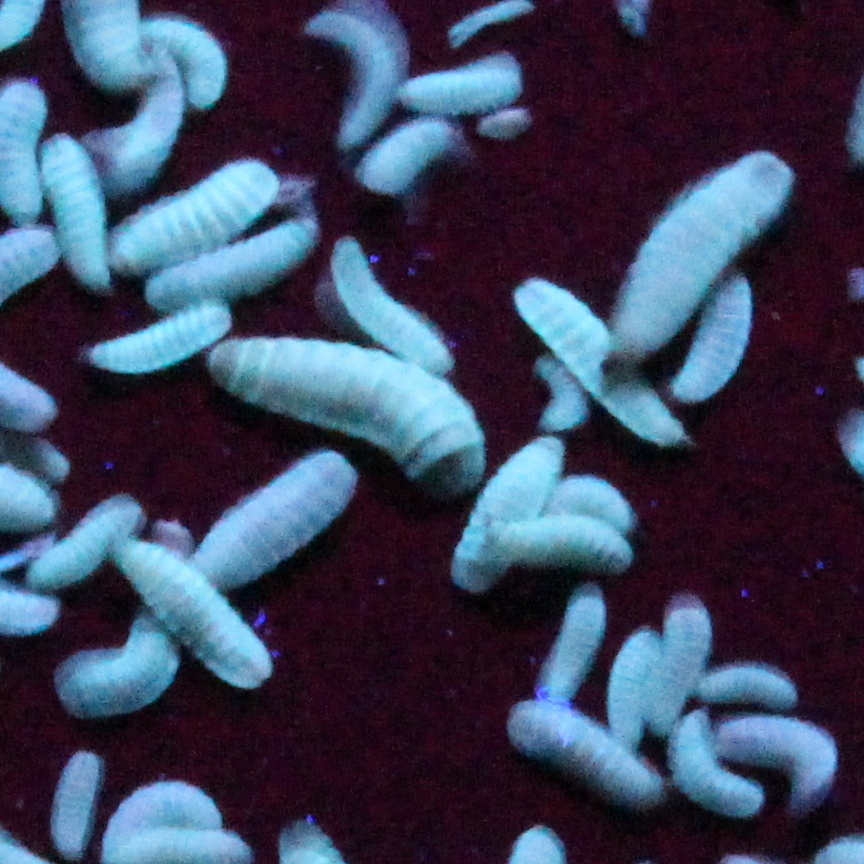larve: (222, 349, 479, 495), (605, 158, 779, 366), (514, 289, 685, 441), (194, 461, 377, 581), (137, 546, 279, 675), (434, 444, 551, 581), (148, 224, 328, 309), (519, 715, 659, 818), (108, 175, 265, 266), (337, 255, 459, 364), (679, 275, 757, 404), (71, 618, 177, 712), (102, 61, 180, 181), (362, 124, 454, 201), (405, 55, 528, 112), (539, 592, 599, 706), (94, 315, 225, 364), (48, 755, 105, 852), (160, 26, 234, 98), (451, 4, 537, 46), (611, 632, 645, 735)
